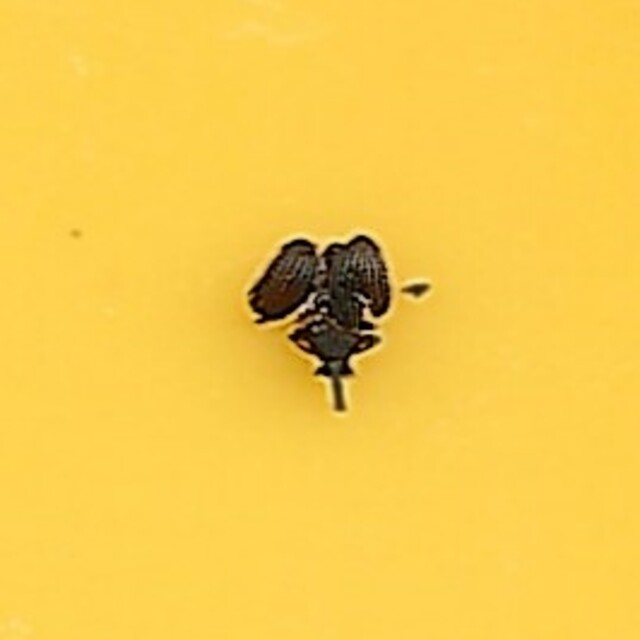Coleoptera: (241, 220, 399, 420)
